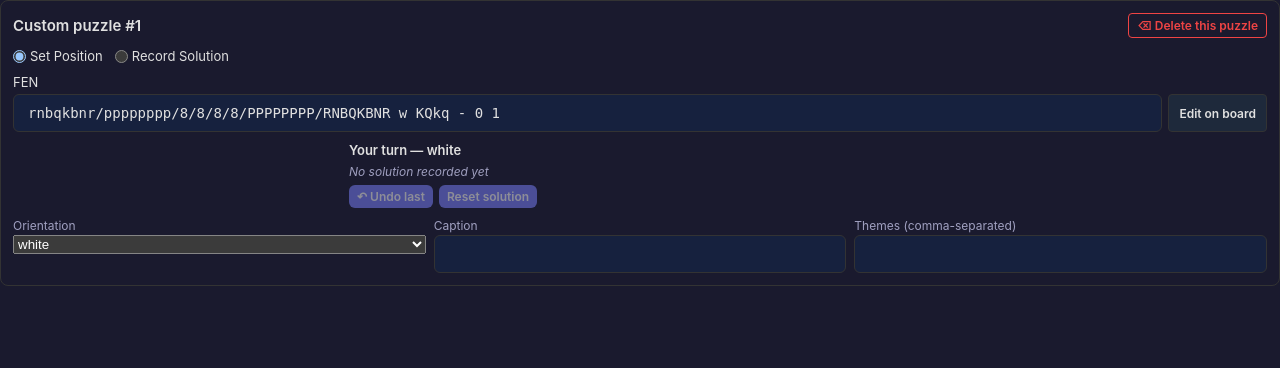
Test: <CustomPuzzleField> › illegal move (e2e5 не легальный) → ошибка
Click the radio button with test id "editor-custom-puzzle-0-mode-record" at (121, 56), box x1=115 y1=50 x2=128 y2=62
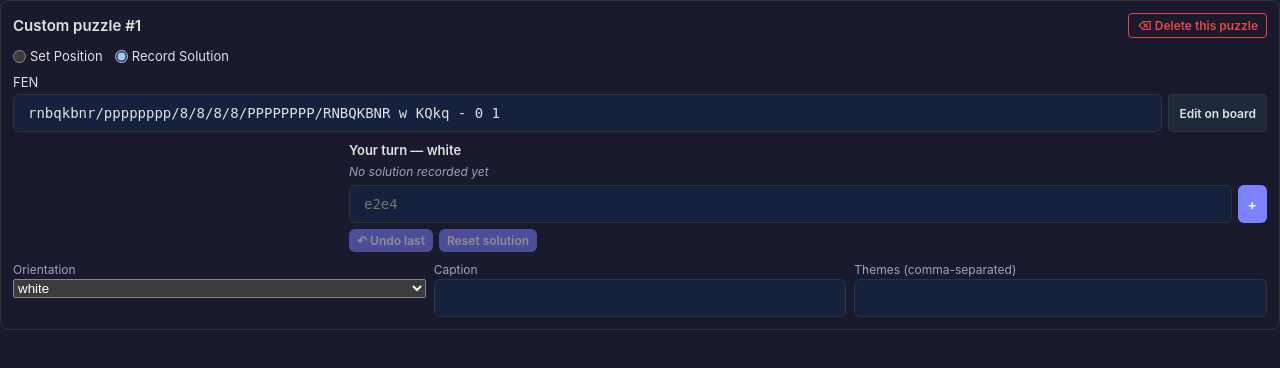
Type "e2e5" into the field with test id "editor-custom-puzzle-0-uci-input" at (790, 204), box x1=349 y1=185 x2=1232 y2=223
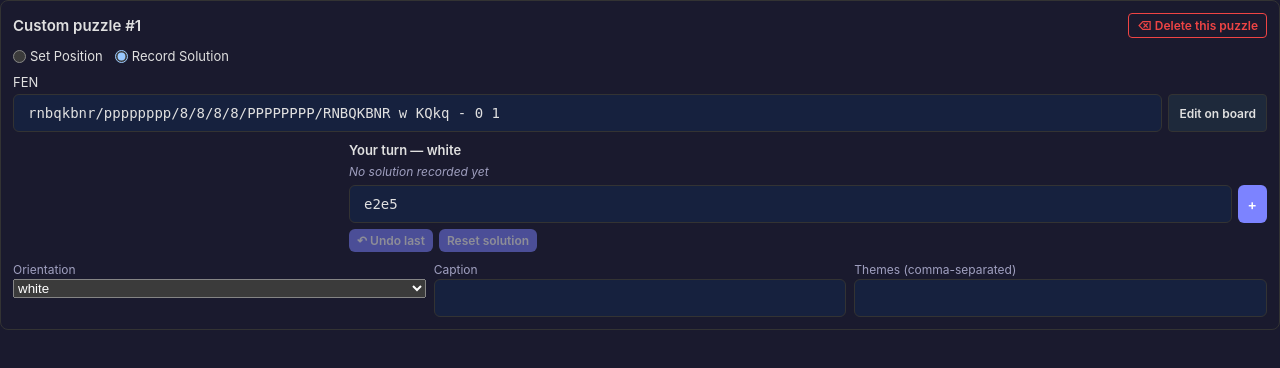
Click the button "+" at (1252, 204), box x1=1238 y1=185 x2=1267 y2=223
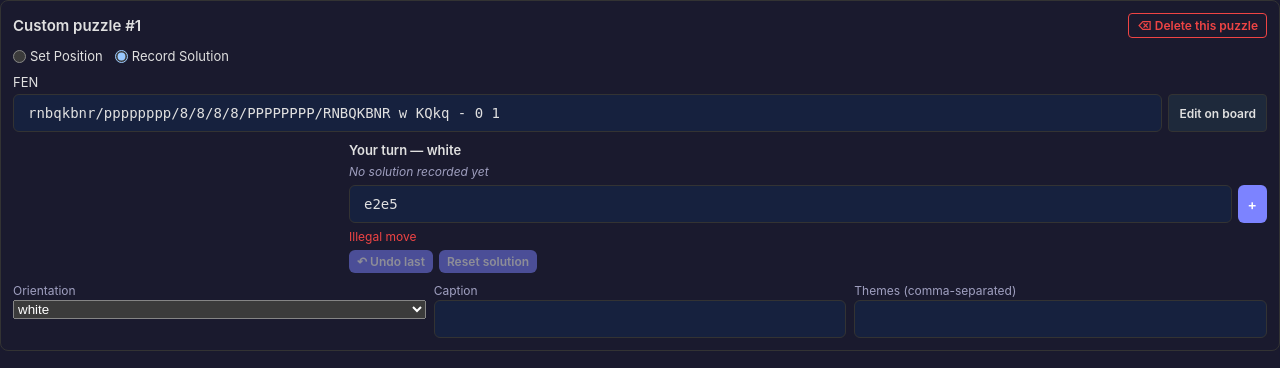
Now the message "Illegal move" is shown, box x1=349 y1=229 x2=416 y2=244
